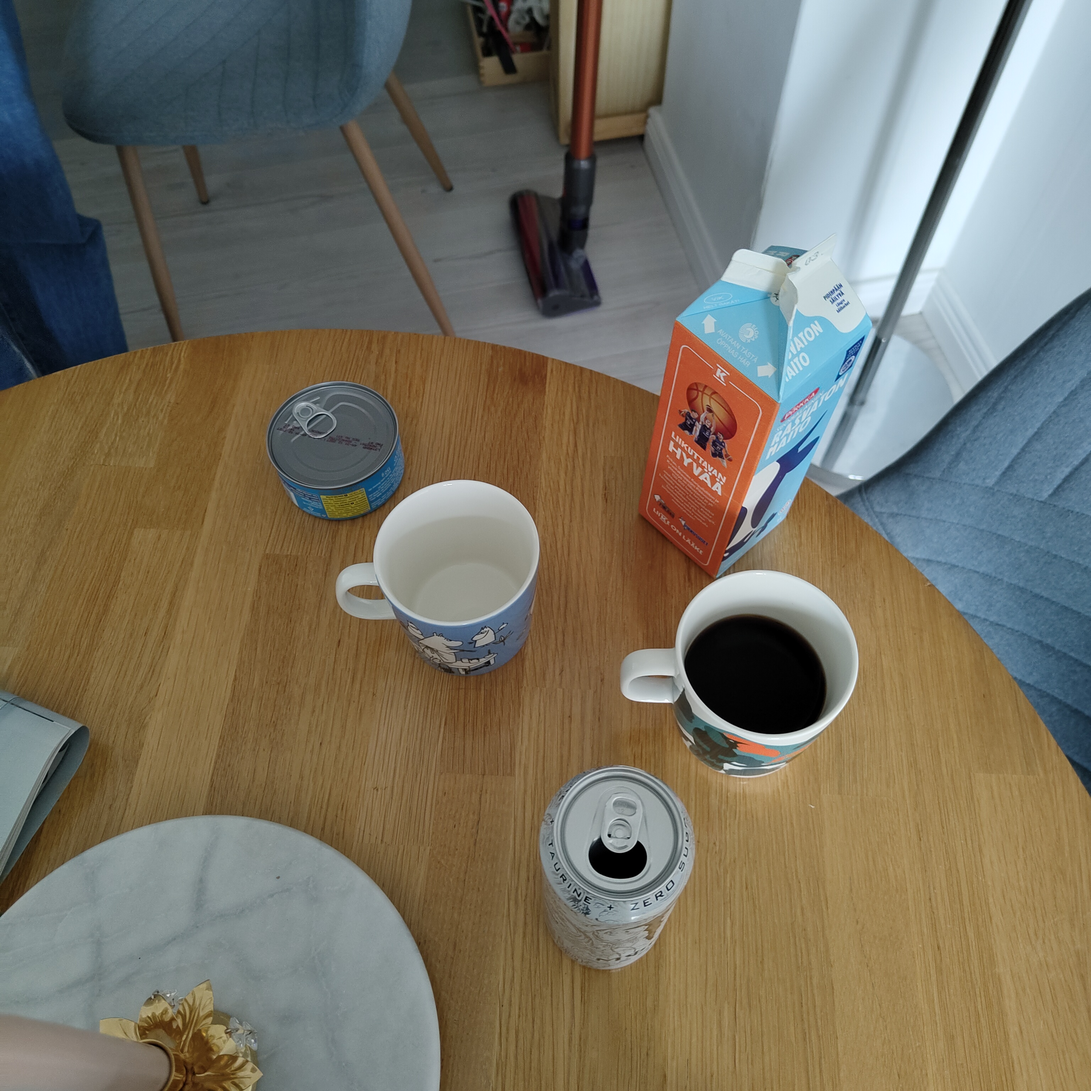Dryckeskartong: (638, 232, 873, 578)
Konservburk: (266, 381, 406, 520)
Pantburk: (538, 765, 696, 970)
